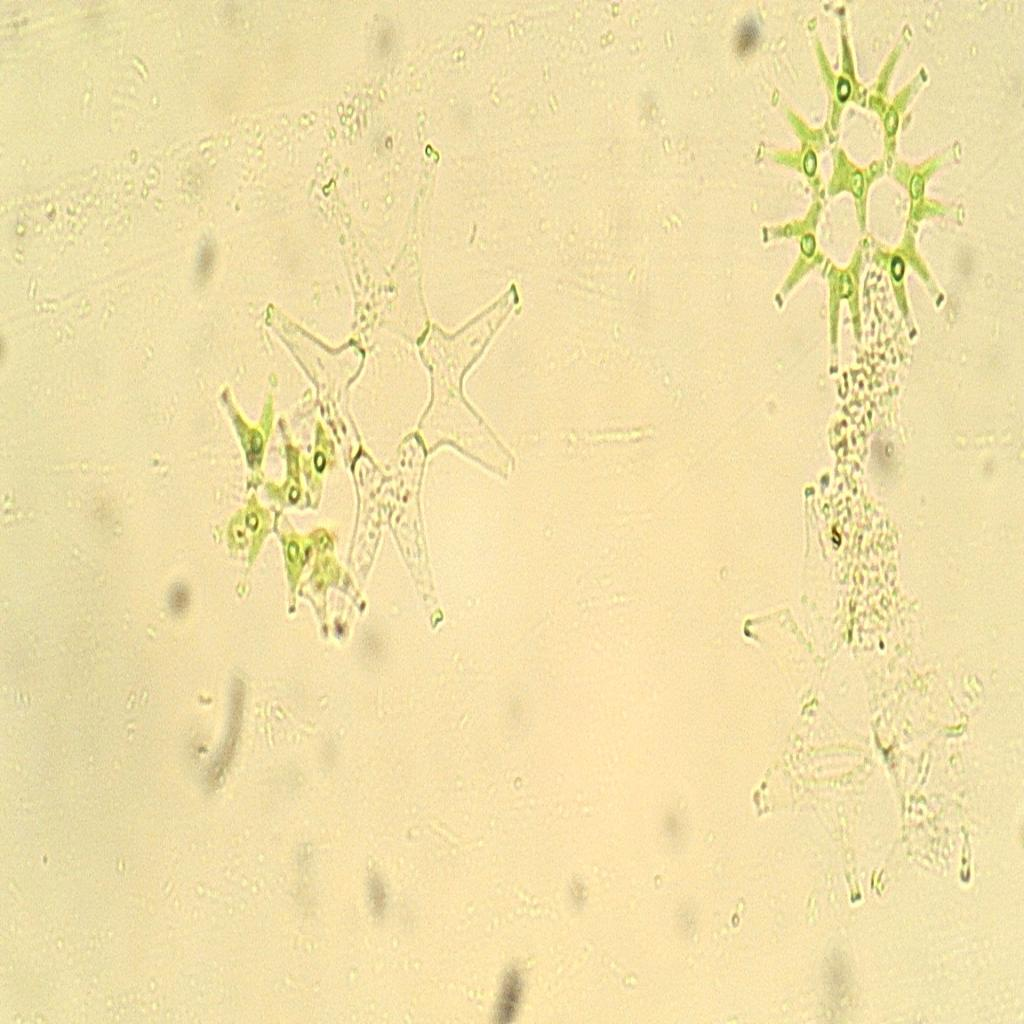Pediastrum_1F0: (237, 130, 537, 648)
